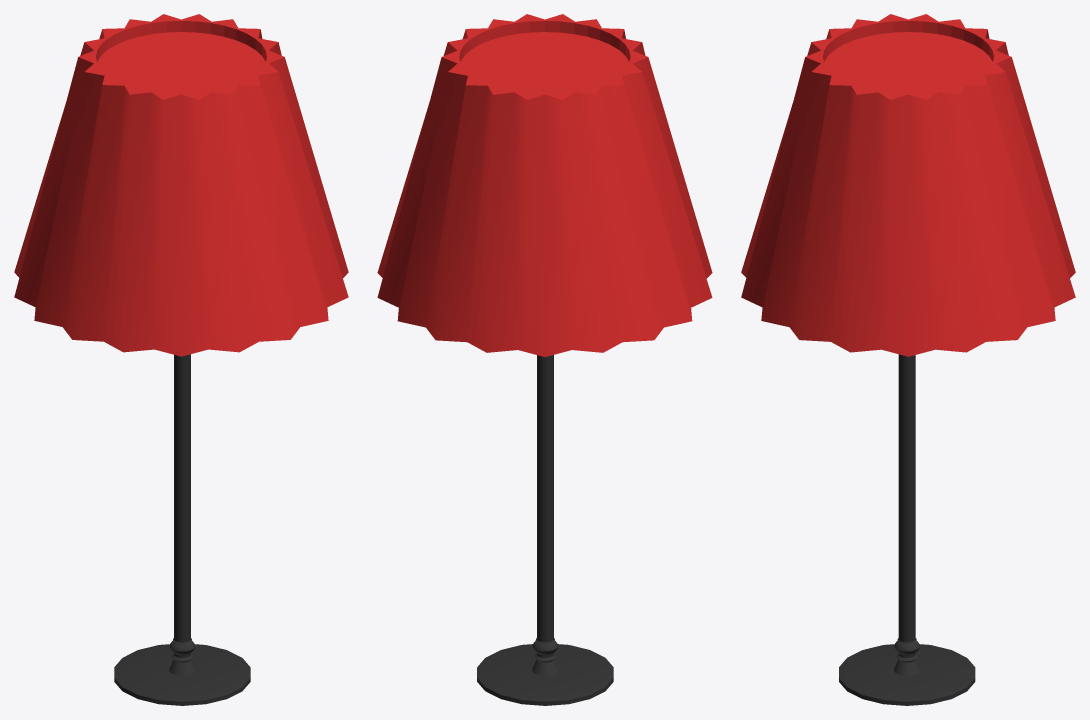
The model's file is Red Lamp.glb.
The picture shows the model from 3 angles, left to right: view 1: azimuth 30°, elevation 25°; view 2: azimuth 150°, elevation 25°; view 3: azimuth 270°, elevation 25°; orthographic projection.
Parts seen in each view (by area): view 1: node-0; view 2: node-0; view 3: node-0.
Part boxes in pixels (box(x1,y1,x2,y2)): node-0: box(14, 14, 348, 705); node-0: box(377, 14, 712, 705); node-0: box(741, 14, 1075, 705).
Bounding box in the file's own units: 44099 × 89017 × 43429.
